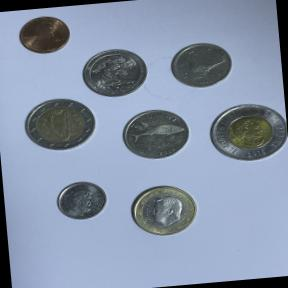coin: (200, 96, 288, 171), (16, 92, 101, 156), (125, 180, 203, 245), (116, 104, 194, 166), (78, 44, 153, 101), (50, 174, 112, 227), (14, 12, 76, 60)
